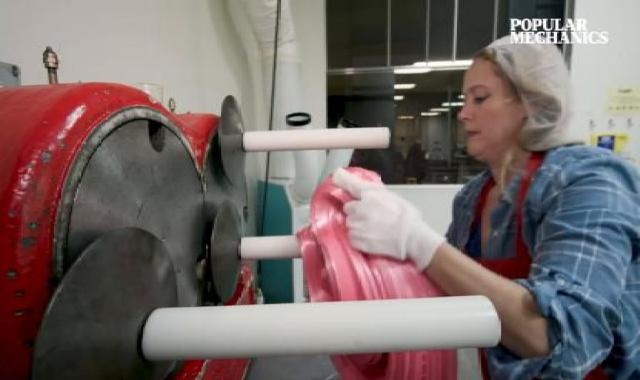hairnet: (472, 22, 593, 152)
